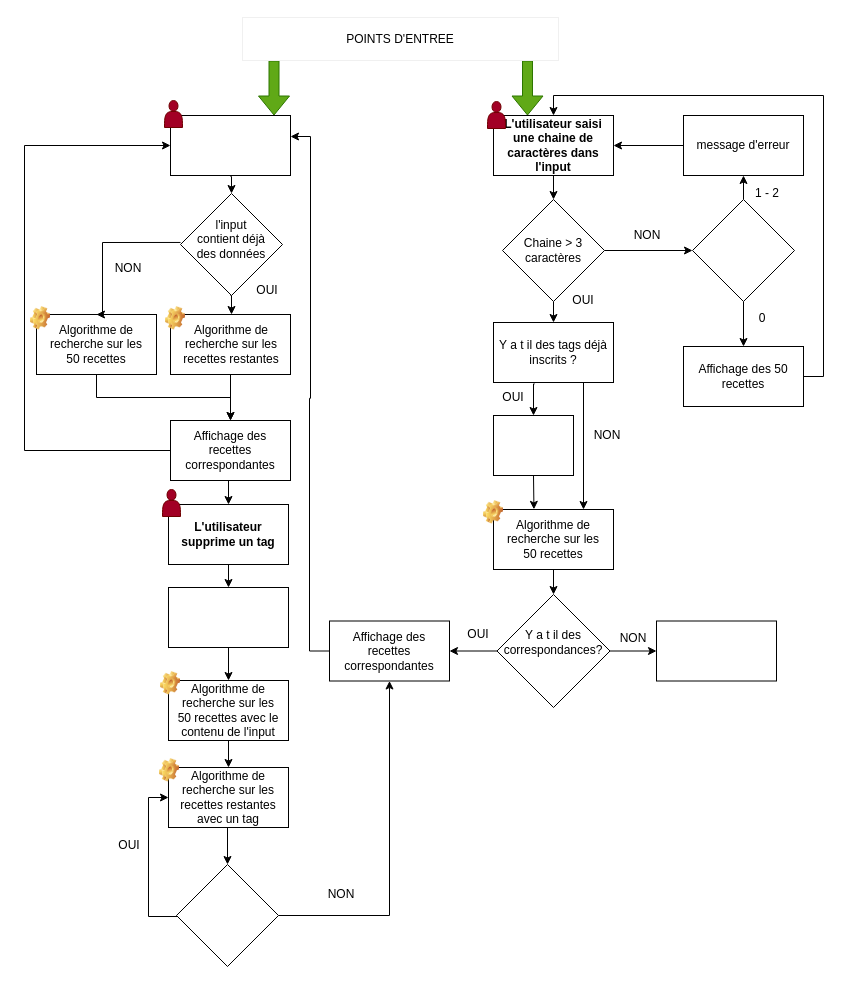
This 849x984 diagram has some shape labels left out. The shapes that lost their labels are listed below. From the top down, each one's box as (x1, y1, x2, y2) in pixels, then its label:
(170, 114, 290, 176): L'utilisateur sélectionne un tag
(692, 198, 794, 302): Nombre de caractères
(492, 414, 574, 476): Suppression des tags
(168, 586, 288, 648): Suppression du tag dans la vue
(656, 620, 776, 681): Message d'information "Aucune recette"
(176, 864, 278, 966): Il reste d'autres tags non traités
